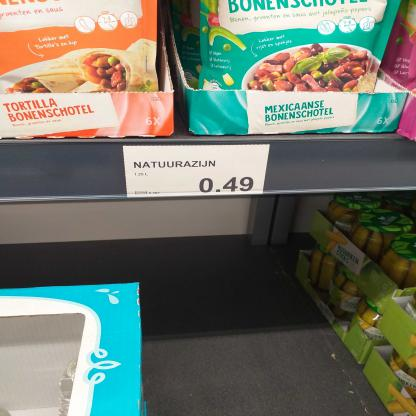prtg: (124, 146, 271, 199)
